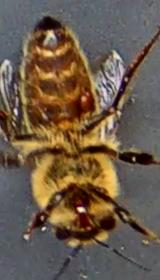varroa_mite: (70, 82, 102, 123)
